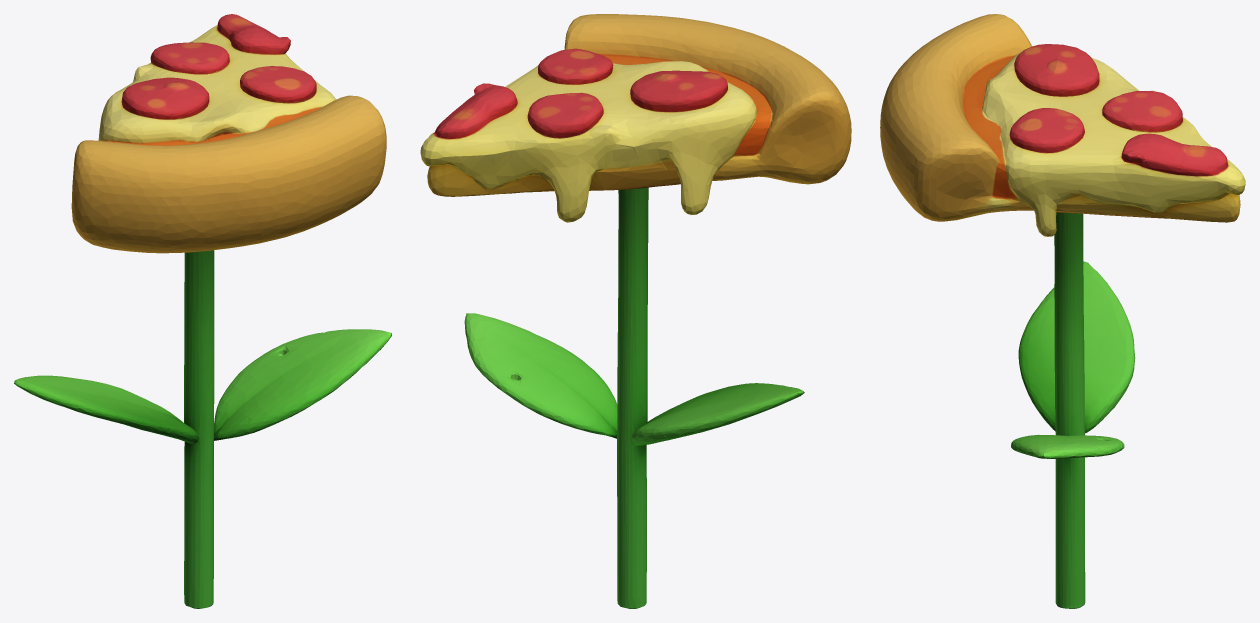
3 views of the same model, side by side, from view 1: azimuth 30°, elevation 25°; view 2: azimuth 150°, elevation 25°; view 3: azimuth 270°, elevation 25° (orthographic).
Parts seen in each view (by area): view 1: geometry_0; view 2: geometry_0; view 3: geometry_0.
Boxes of the visible parts, x1,y1,x2,y2 form: geometry_0: (14,14,391,608); geometry_0: (420,14,851,608); geometry_0: (880,14,1245,608).
Size of the model in its own units: 0.706 by 0.9994 by 0.6307.
Materials: 1 (1 with a texture image).
